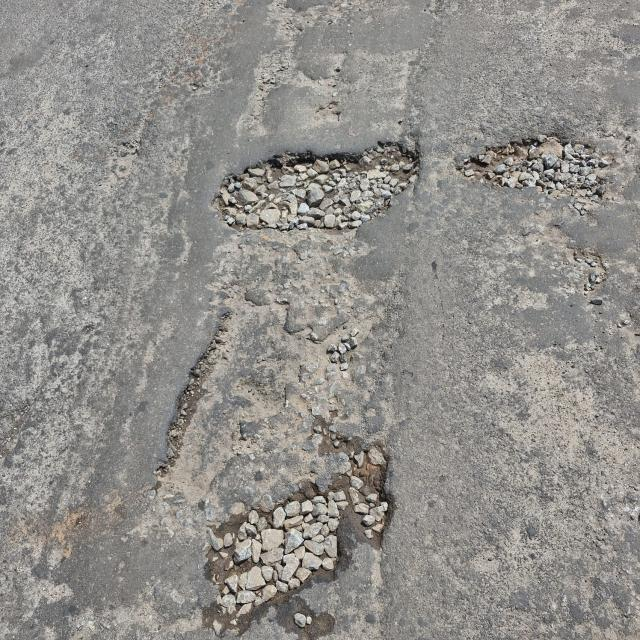pothole: (201, 431, 401, 640), (204, 125, 431, 246), (150, 291, 234, 496), (444, 117, 632, 203), (564, 238, 622, 306)
